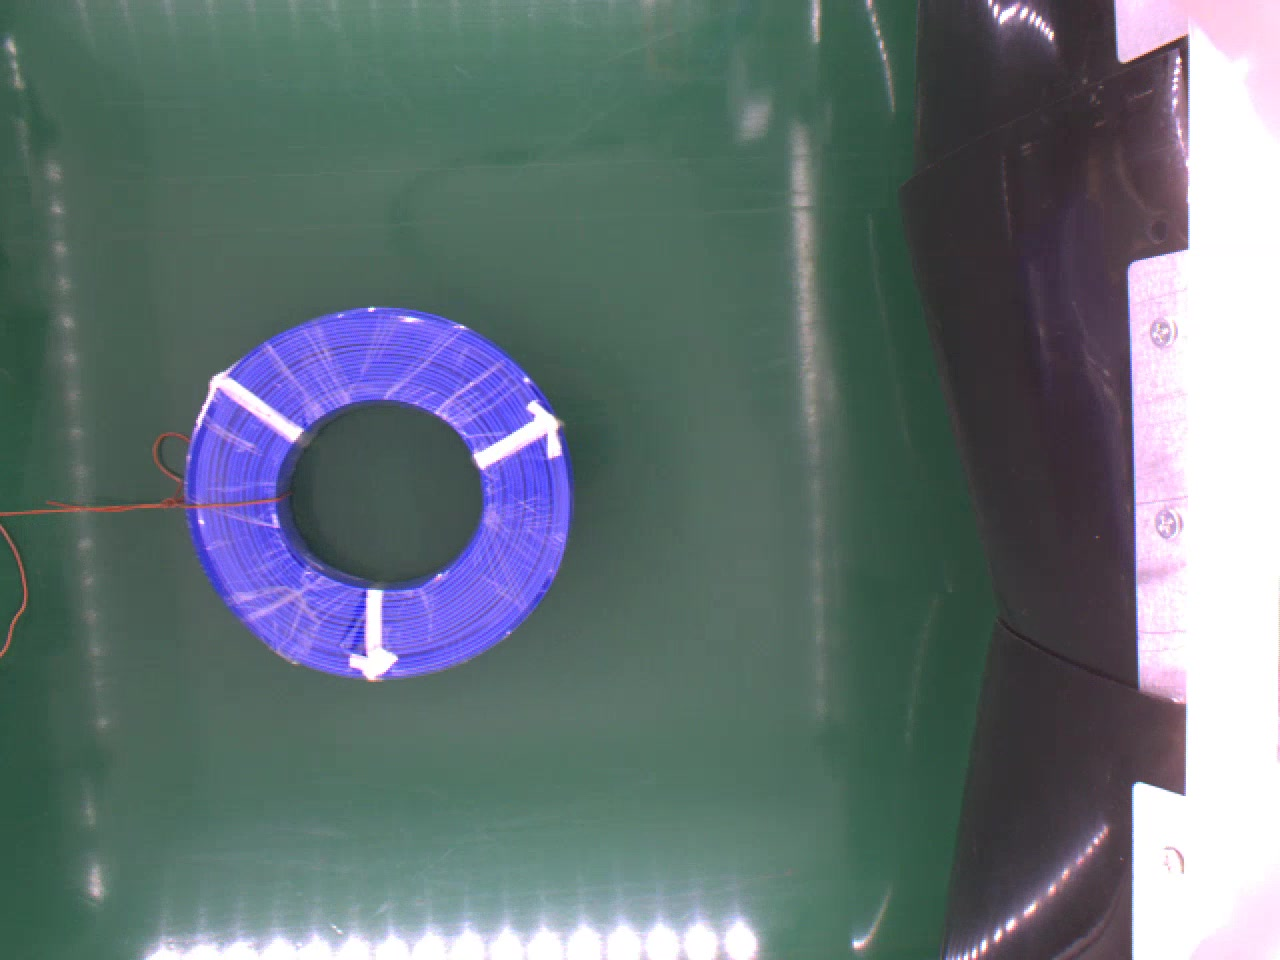blue: (180, 301, 572, 678)
